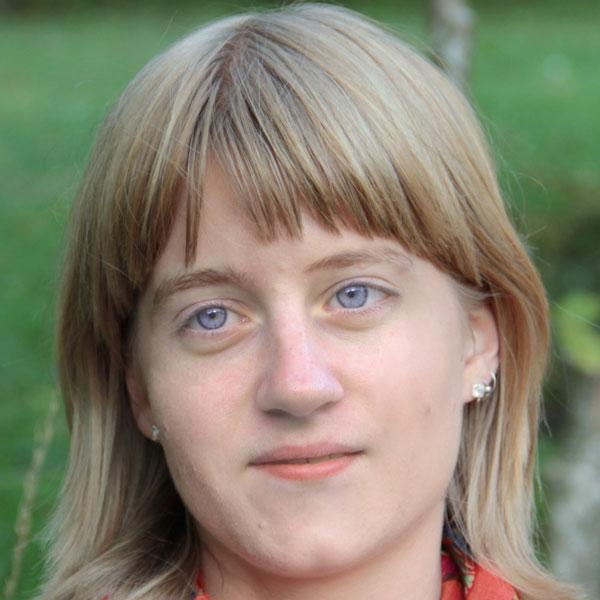Eyes: (307, 265, 413, 332), (165, 286, 264, 352)
